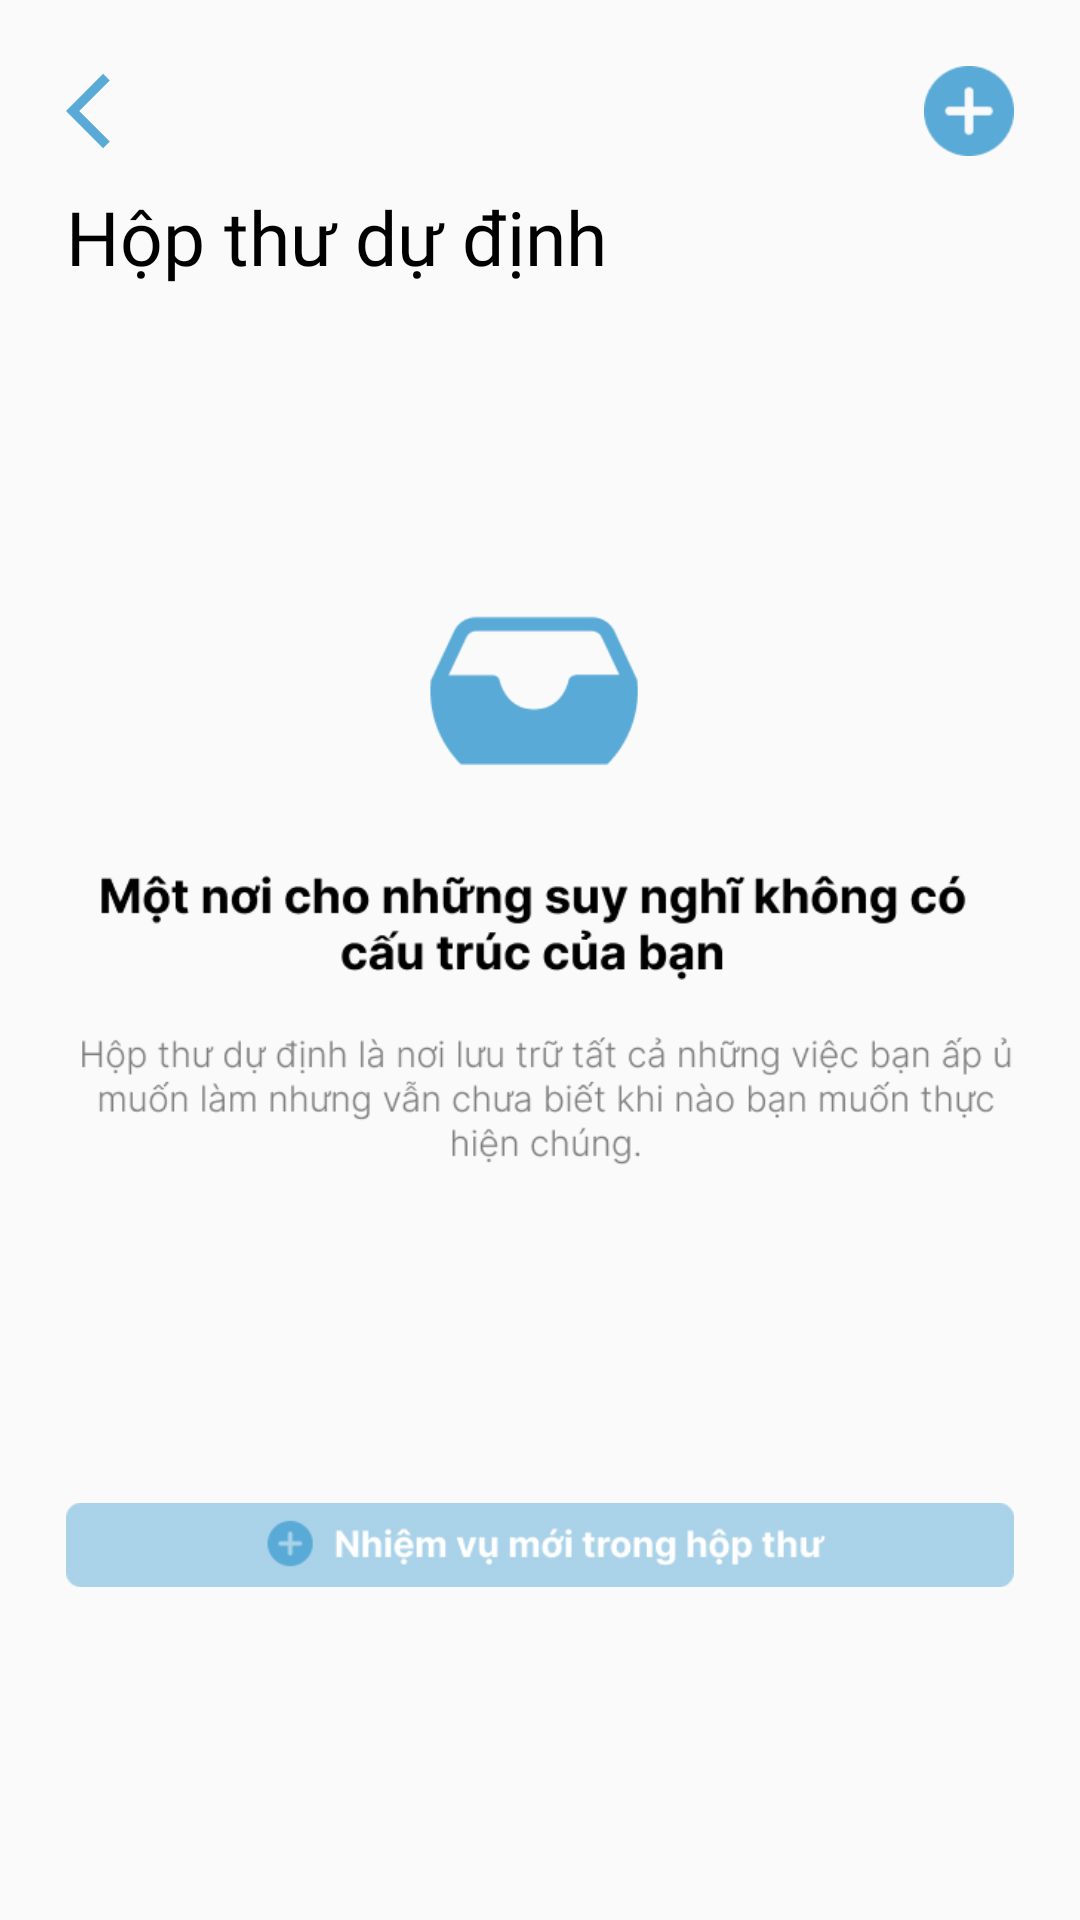

Point at icon controls on the screen. Image size 1080 x 1920, points as [x,y].
back toolbar: [88,111]
